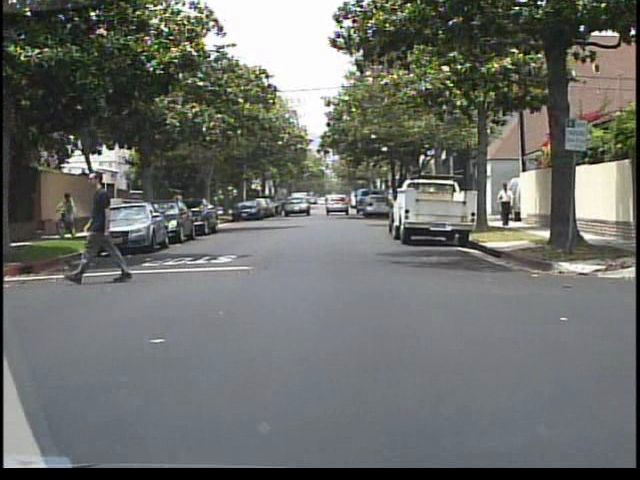person: (69, 165, 145, 293), (495, 175, 520, 232), (56, 189, 80, 238), (169, 186, 189, 226)
